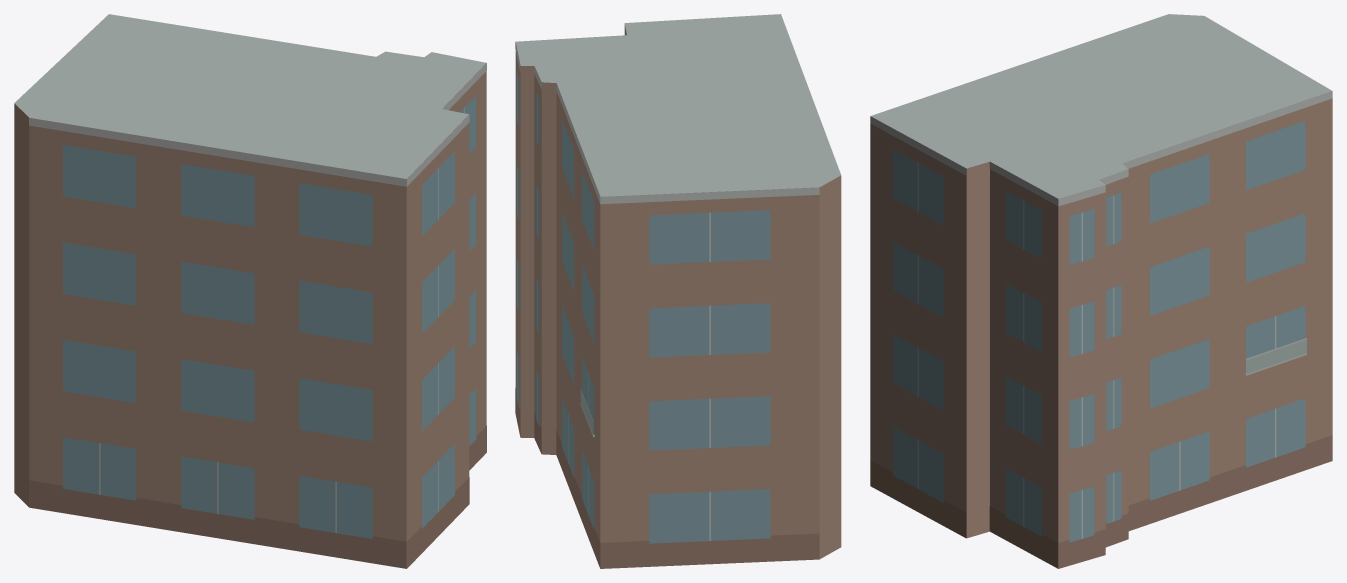
Rendered from survey-upis-32855392.glb.
3 views of the same model, side by side, from view 1: azimuth 30°, elevation 25°; view 2: azimuth 150°, elevation 25°; view 3: azimuth 270°, elevation 25° (orthographic). The views are drawn at different scales.
Parts seen in each view (by area): view 1: survey-upis-32855392.tmp; view 2: survey-upis-32855392.tmp; view 3: survey-upis-32855392.tmp.
Part boxes in pixels (box(x1,y1,x2,y2)): survey-upis-32855392.tmp: box(14, 14, 486, 568); survey-upis-32855392.tmp: box(515, 14, 841, 568); survey-upis-32855392.tmp: box(870, 14, 1332, 568).
Bounding box in the file's own units: 13.09 × 12.2 × 13.83.
